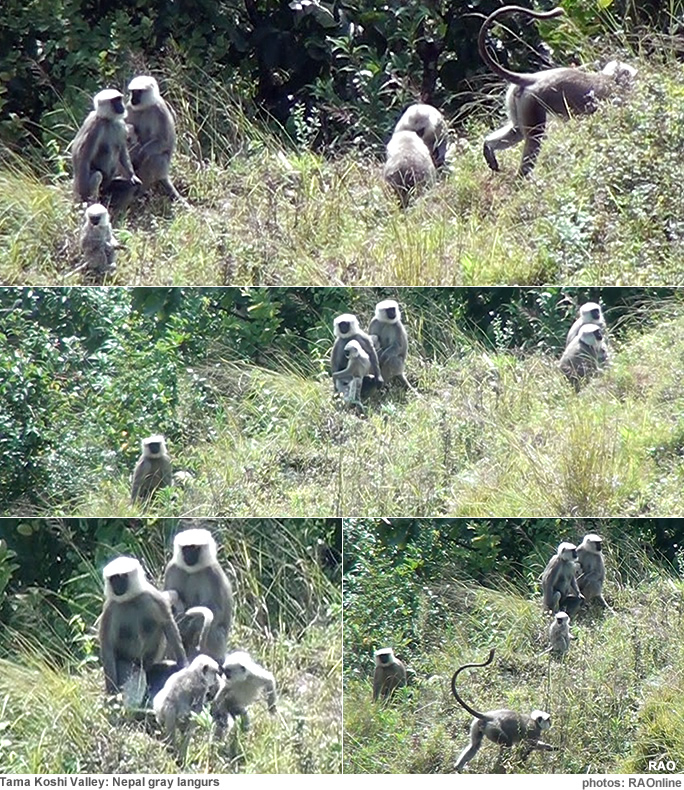monkey: (457, 6, 651, 179), (82, 552, 190, 719), (441, 646, 567, 772), (149, 528, 254, 670), (56, 79, 144, 197), (129, 74, 201, 213), (203, 649, 286, 752), (321, 312, 396, 406), (151, 651, 218, 743), (360, 300, 426, 393), (121, 423, 186, 501), (382, 96, 454, 163), (562, 530, 618, 610), (321, 340, 385, 402), (364, 643, 422, 711), (531, 536, 587, 606), (551, 302, 623, 356), (551, 325, 619, 380), (539, 606, 580, 662)
